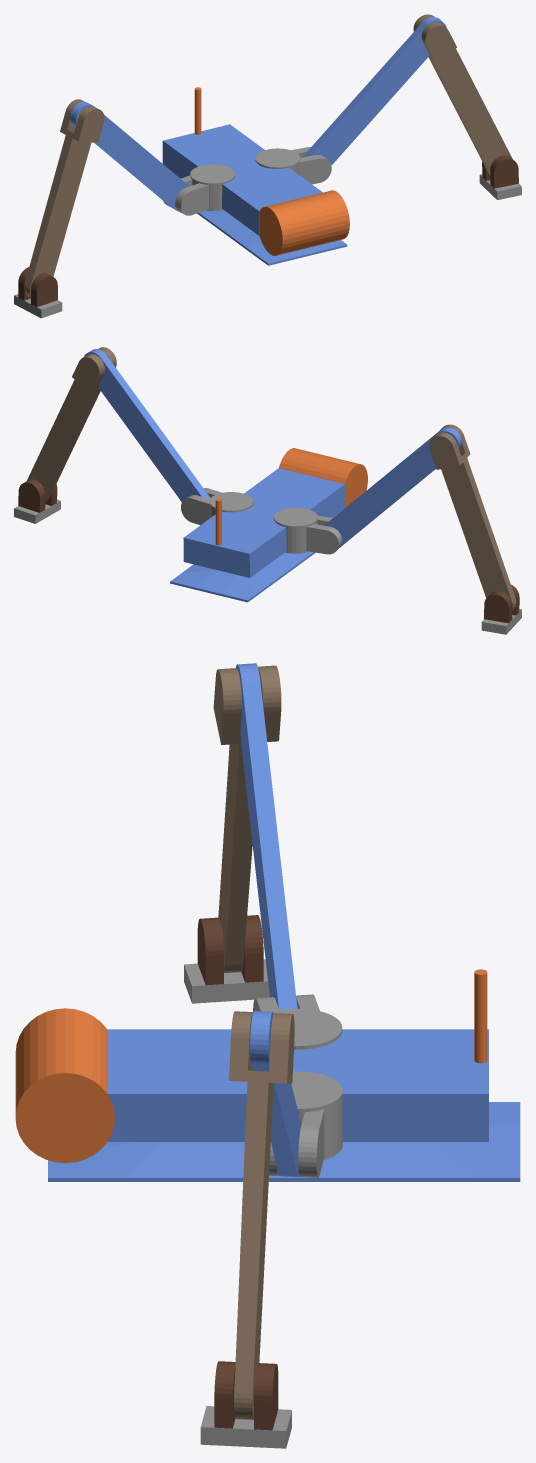
Rendered from two-legs_v0-4.glb.
3 views of the same model, one above another, from view 1: azimuth 30°, elevation 25°; view 2: azimuth 150°, elevation 25°; view 3: azimuth 270°, elevation 25° (orthographic). The views are drawn at different scales.
Parts seen in each view (by area): view 1: Chassis, LowerLegRight2, UpperLegLeft2, LowerLegLeft2, UpperLegRight2, ShoulderRight2, ShoulderLeft2, FootRight2, FootLeft2; view 2: Chassis, LowerLegRight2, UpperLegLeft2, LowerLegLeft2, UpperLegRight2, ShoulderRight2, ShoulderLeft2, FootLeft2, FootRight2; view 3: Chassis, LowerLegLeft2, UpperLegRight2, LowerLegRight2, FootLeft2, FootRight2, ShoulderLeft2, UpperLegLeft2, ShoulderRight2.
Boxes of the visible parts, x1=… form: Chassis: x1=162, y1=87, x2=349, y2=265; LowerLegRight2: x1=24, y1=99, x2=104, y2=297; UpperLegLeft2: x1=302, y1=17, x2=446, y2=165; LowerLegLeft2: x1=413, y1=14, x2=512, y2=174; UpperLegRight2: x1=70, y1=101, x2=189, y2=211; ShoulderRight2: x1=163, y1=164, x2=234, y2=215; ShoulderLeft2: x1=255, y1=147, x2=331, y2=184; FootRight2: x1=14, y1=267, x2=62, y2=318; FootLeft2: x1=479, y1=155, x2=521, y2=199; Chassis: x1=170, y1=448, x2=367, y2=602; LowerLegRight2: x1=429, y1=424, x2=516, y2=611; UpperLegLeft2: x1=84, y1=349, x2=210, y2=501; LowerLegLeft2: x1=27, y1=347, x2=116, y2=501; UpperLegRight2: x1=324, y1=427, x2=461, y2=547; ShoulderRight2: x1=273, y1=507, x2=342, y2=554; ShoulderLeft2: x1=181, y1=488, x2=253, y2=525; FootLeft2: x1=14, y1=479, x2=60, y2=523; FootRight2: x1=481, y1=584, x2=521, y2=634; Chassis: x1=15, y1=969, x2=520, y2=1181; LowerLegLeft2: x1=229, y1=1011, x2=294, y2=1419; UpperLegRight2: x1=236, y1=663, x2=297, y2=1010; LowerLegRight2: x1=213, y1=665, x2=281, y2=972; FootLeft2: x1=200, y1=1361, x2=291, y2=1448; FootRight2: x1=184, y1=915, x2=269, y2=1003; ShoulderLeft2: x1=269, y1=1071, x2=342, y2=1177; UpperLegLeft2: x1=250, y1=1011, x2=301, y2=1177; ShoulderRight2: x1=253, y1=994, x2=342, y2=1049.
Size of the model in its own units: 14.74 by 5.37 by 6.6.
